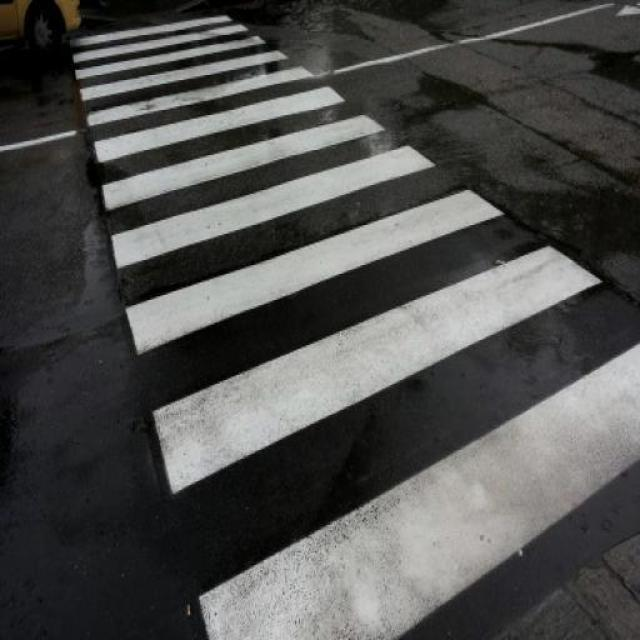crosswalk: (70, 13, 640, 640)
